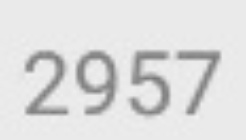TextView: (1, 1, 245, 139)
